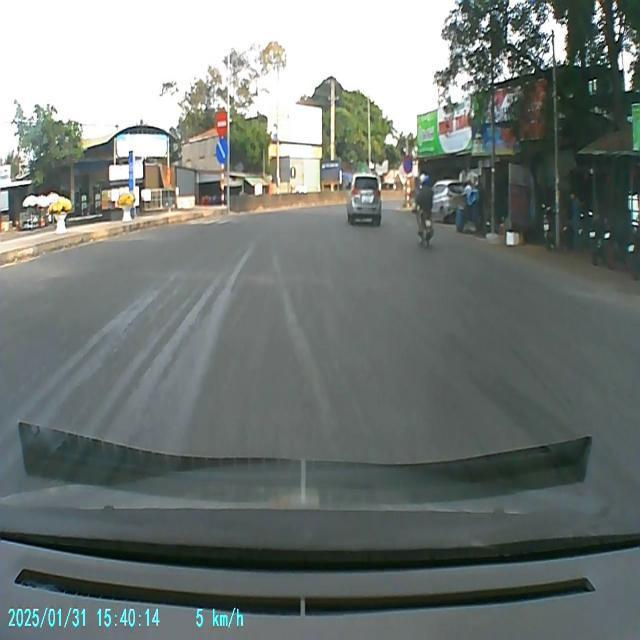102-cam-di-nguoc-chieu: (215, 107, 229, 137)
302a-huong-phai-di-vong-chuong-ngai-vat-1: (216, 138, 227, 166)
